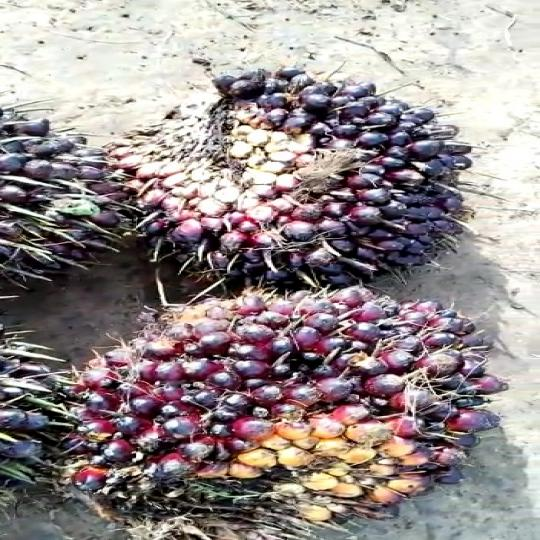kurang masak: (60, 285, 516, 540), (118, 71, 494, 275)
